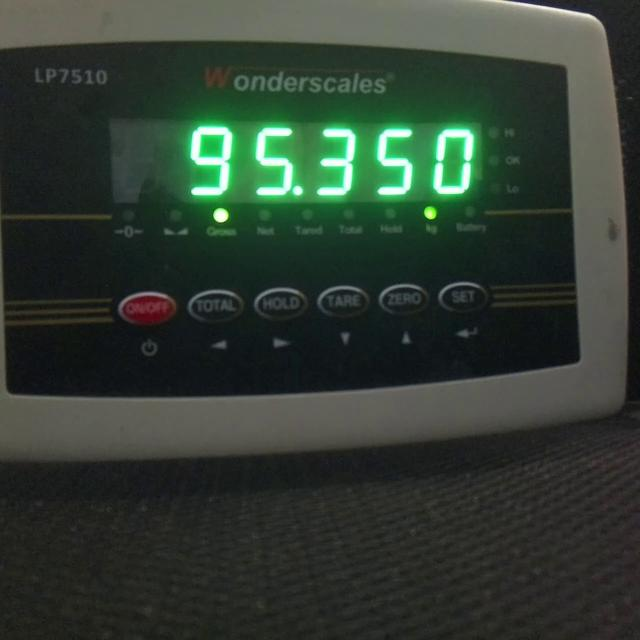.: (292, 186, 302, 196)
0: (434, 128, 474, 195)
3: (316, 128, 356, 196)
5: (254, 125, 294, 198), (375, 127, 414, 195)
9: (189, 126, 233, 197)
